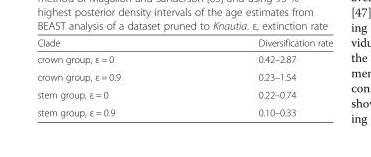table: (36, 36, 332, 117)
table column: (36, 36, 188, 117), (188, 36, 332, 117)
table column header: (36, 36, 332, 50)
table row: (36, 67, 332, 85), (36, 50, 332, 67), (36, 85, 332, 102), (36, 102, 332, 117), (36, 36, 332, 50)
